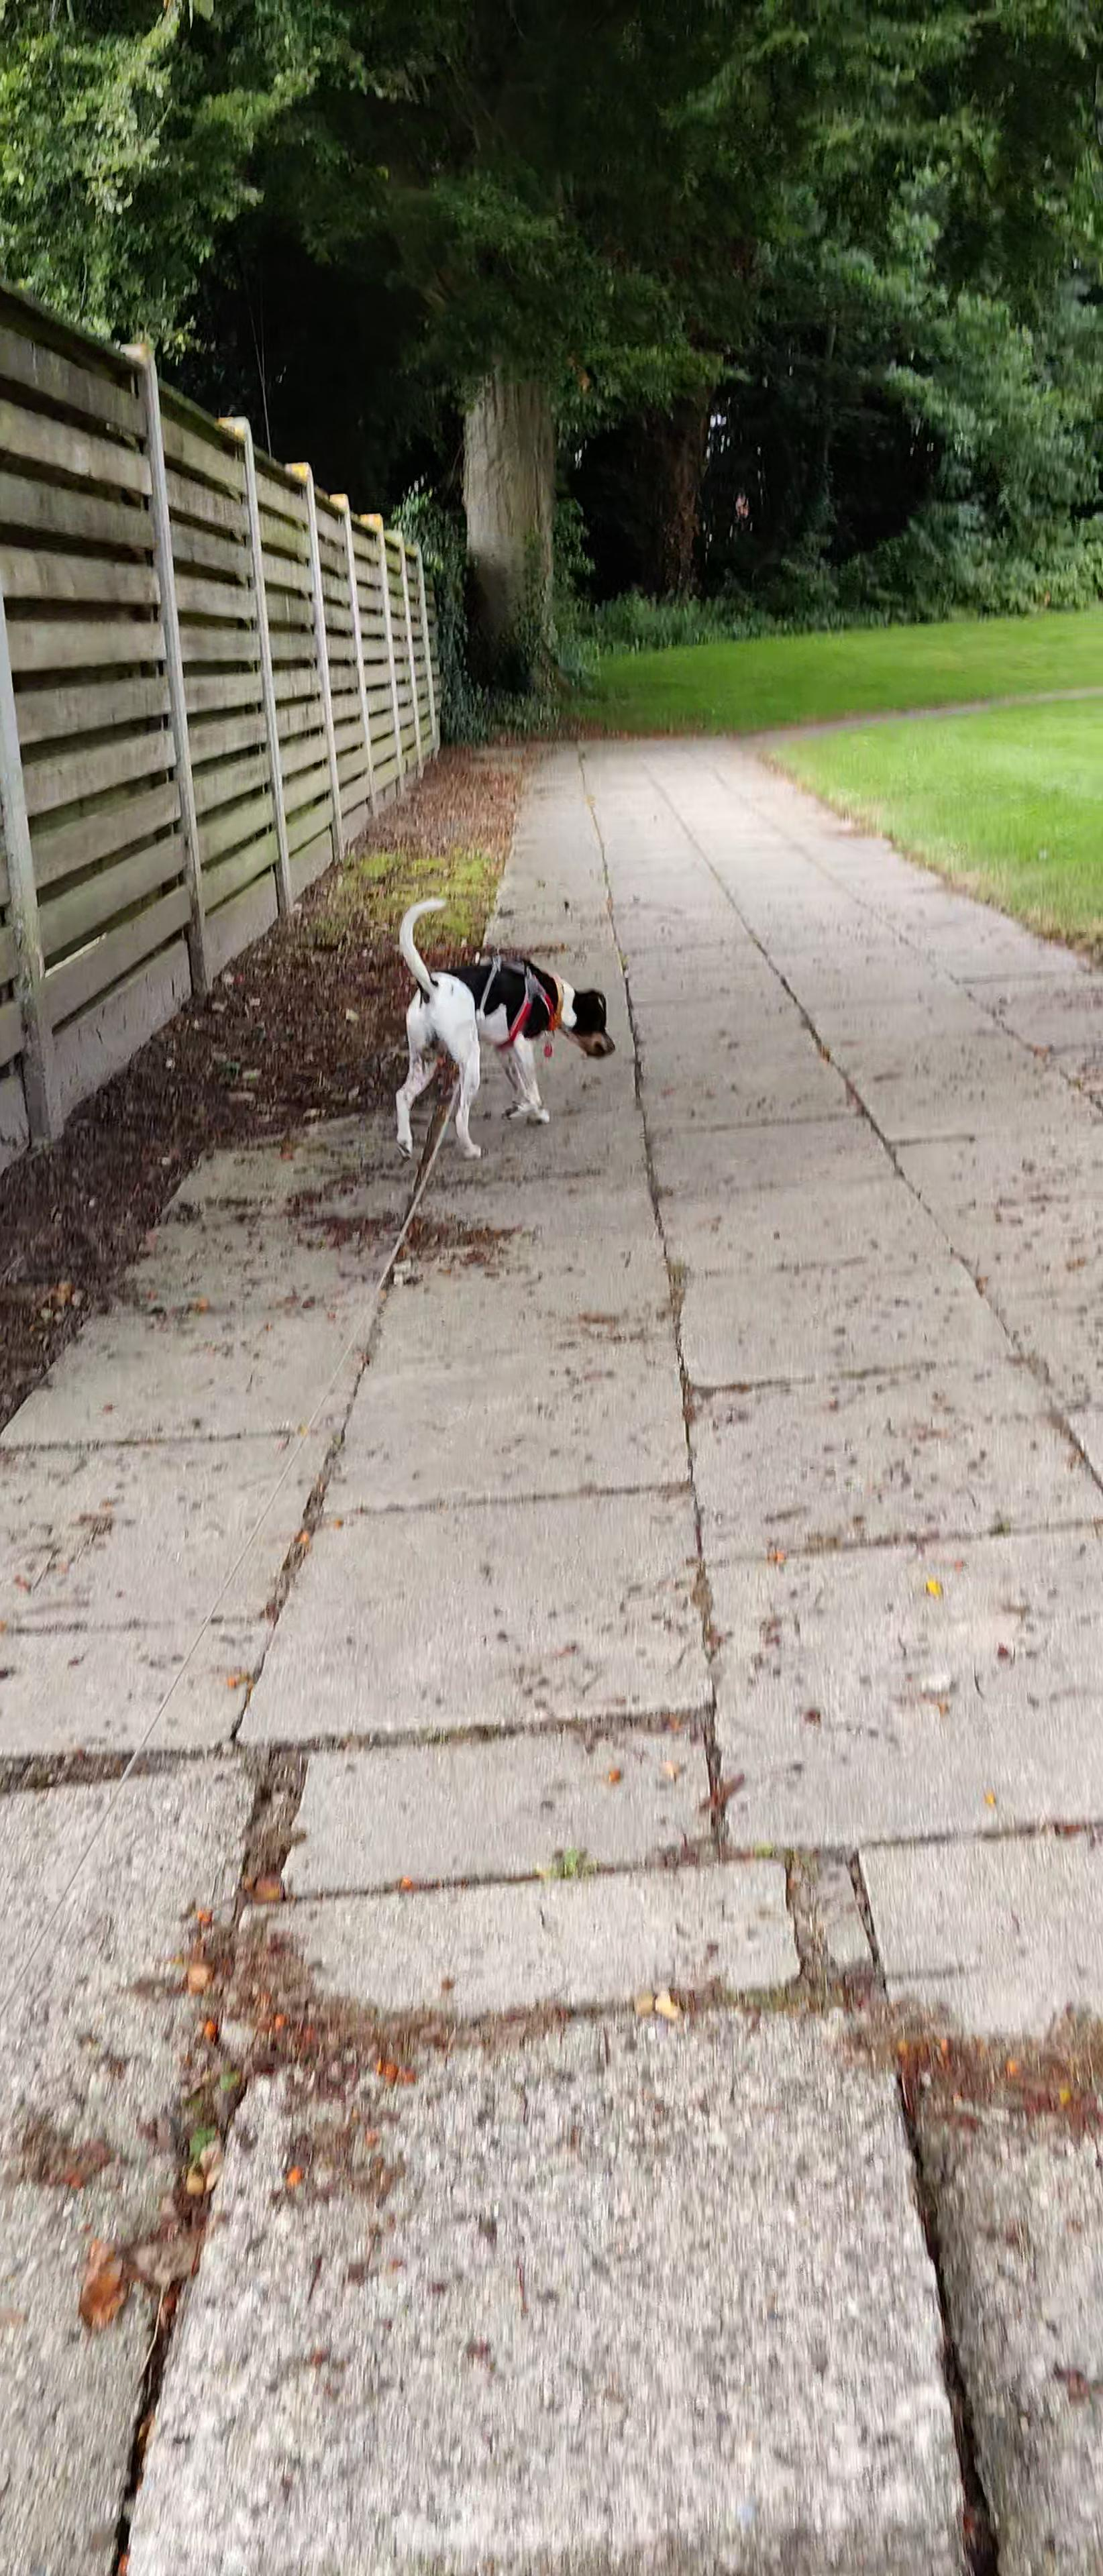Dog: (380, 887, 633, 1173)
